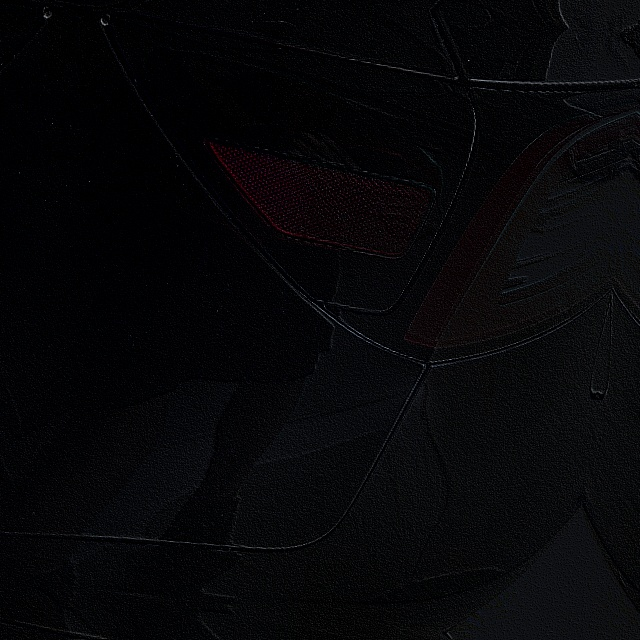reflector: (187, 134, 441, 265)
